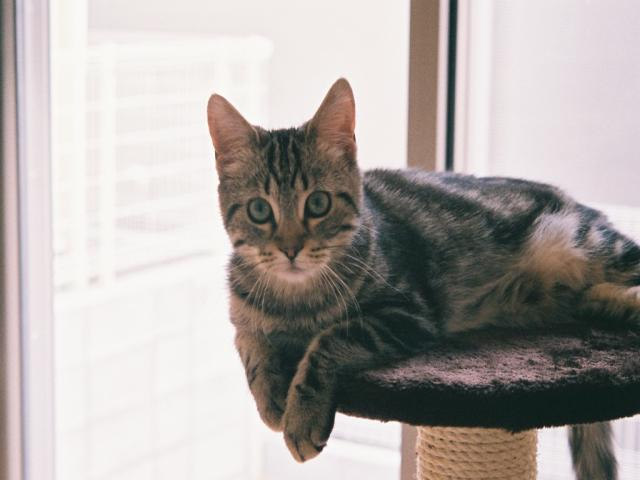Cat: (207, 73, 640, 460)
